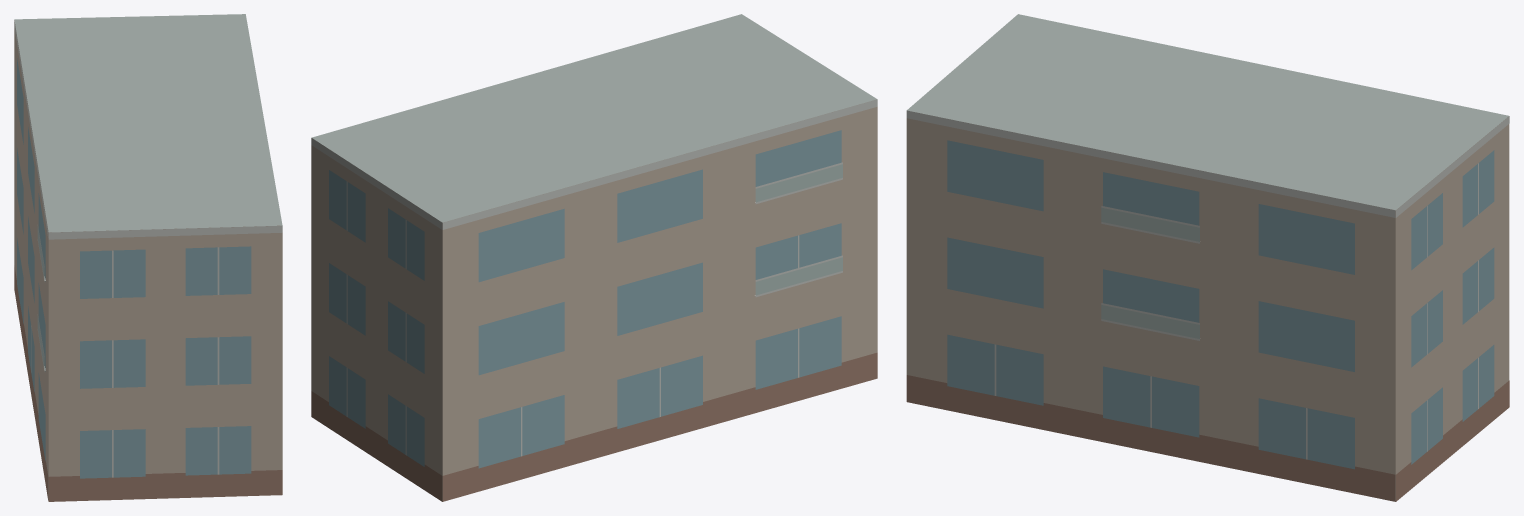
File: survey-upis-32537721.glb
3 renders of one model, left to right at view 1: azimuth 30°, elevation 25°; view 2: azimuth 150°, elevation 25°; view 3: azimuth 270°, elevation 25°, orthographic. The views are drawn at different scales.
Visible parts, largest first — view 1: survey-upis-32537721.tmp; view 2: survey-upis-32537721.tmp; view 3: survey-upis-32537721.tmp.
Boxes of the visible parts, x1,y1,x2,y2 form: survey-upis-32537721.tmp: [14, 14, 282, 501]; survey-upis-32537721.tmp: [311, 14, 877, 501]; survey-upis-32537721.tmp: [906, 14, 1509, 501].
Bounding box in the file's own units: 13.22 × 9.15 × 17.15.
